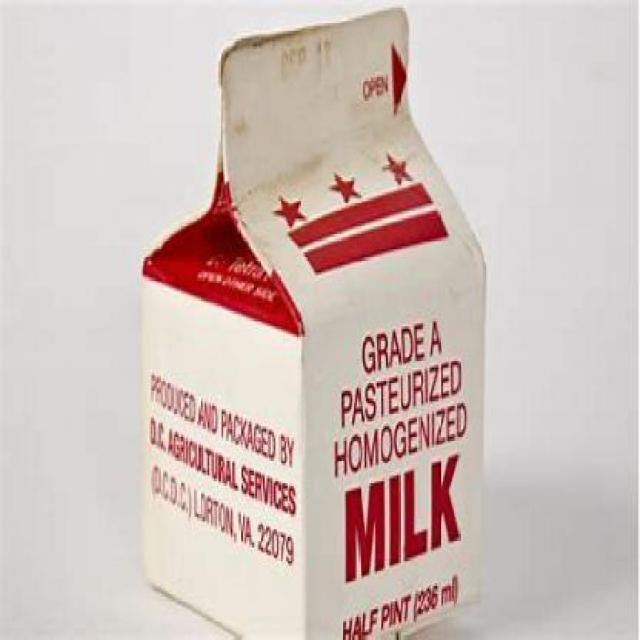drink carton: (137, 6, 485, 639)
